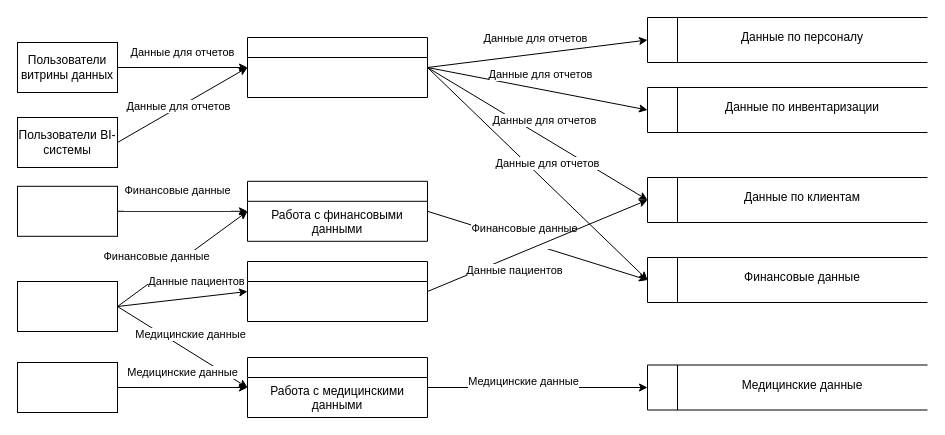
This 945x435 diagram has some shape labels left out. Here are the shapes that lost their labels. From the top down, the centre of each, then its label:
At pixel 337 67: "Обработка запроса и получение данных".
At pixel 67 210: "ФинТех сервисы".
At pixel 67 306: "Пользователи медицинской системы".
At pixel 337 291: "Работа с данными по клиентам".
At pixel 67 387: "ИИ-сервисы".
